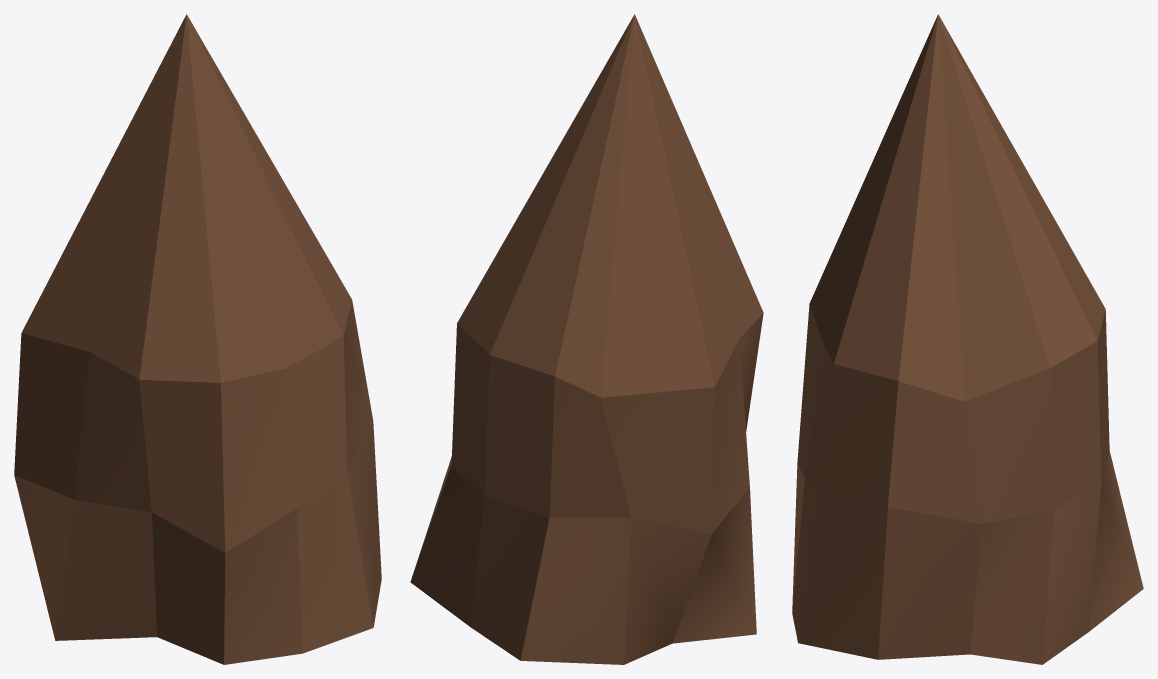
File: plateau.obj
3 renders of one model, left to right at view 1: azimuth 30°, elevation 25°; view 2: azimuth 150°, elevation 25°; view 3: azimuth 270°, elevation 25°, orthographic. The views are drawn at different scales.
Parts seen in each view (by area): view 1: s.0096; view 2: s.0096; view 3: s.0096.
Part boxes in pixels (bbox=[...]): s.0096: bbox=[14, 14, 381, 664]; s.0096: bbox=[410, 14, 763, 664]; s.0096: bbox=[792, 14, 1143, 664].
Bounding box in the file's own units: 2.12 × 4.01 × 2.19.
